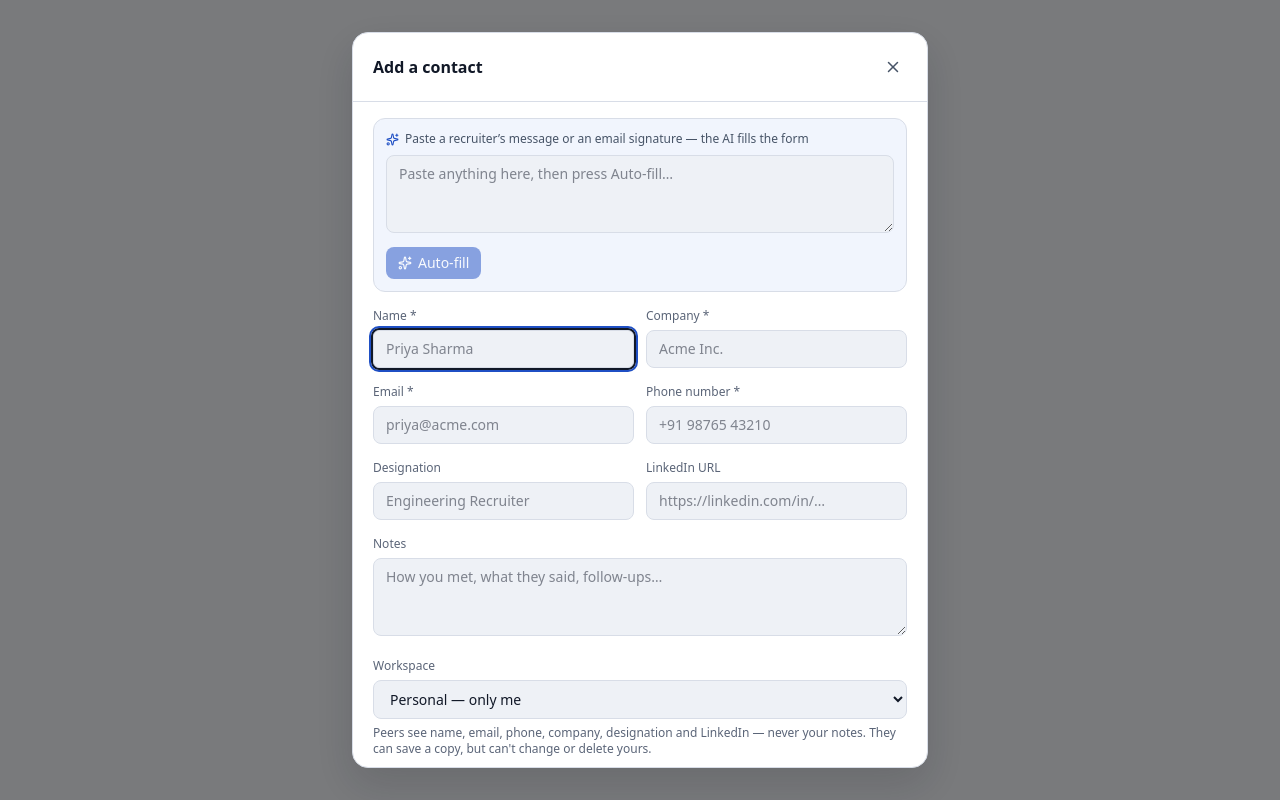
ContactModal Auto-fill › fills only what the AI found and keeps what was typed
In the field labelled "Phone number *": (776, 425) [646, 406, 907, 444], type "12345"
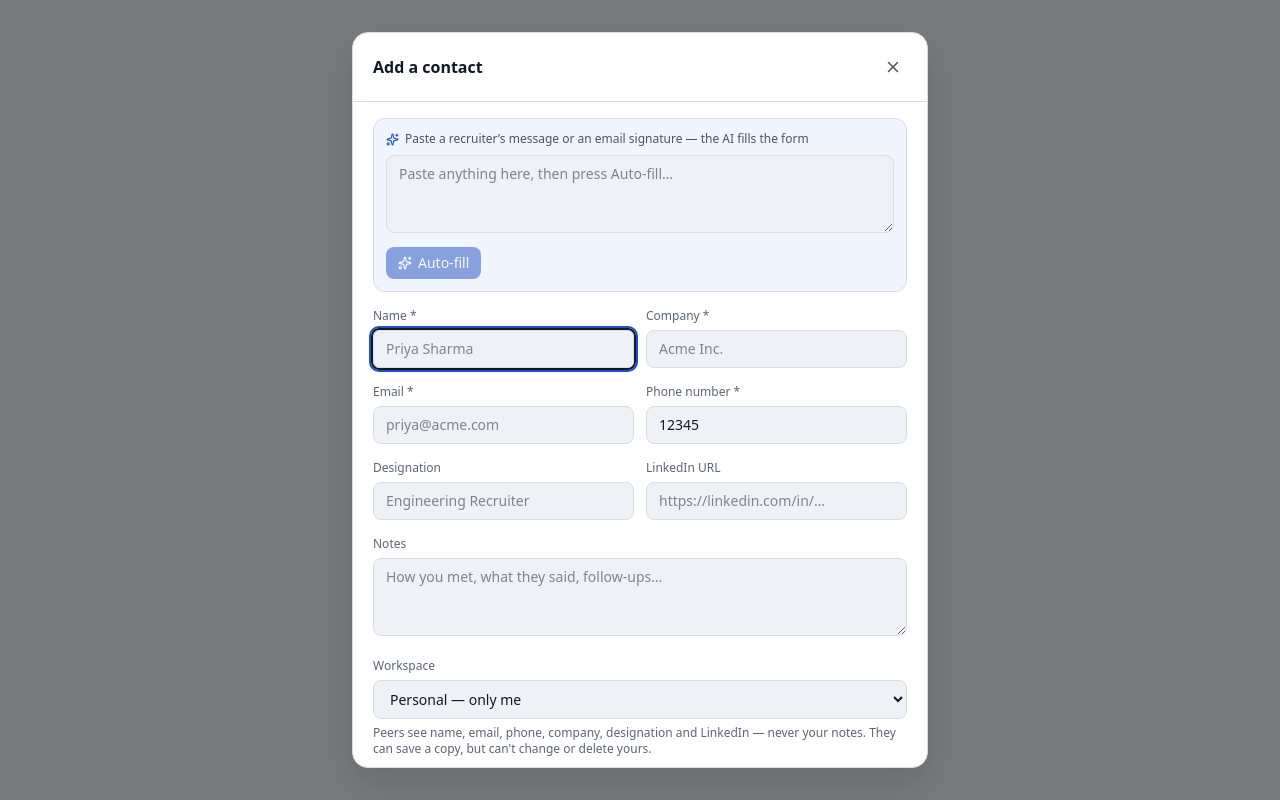
In the text box labelled "Paste a recruiter": (640, 194) [386, 155, 894, 233], type "Priya from Acme priya@acme.com"
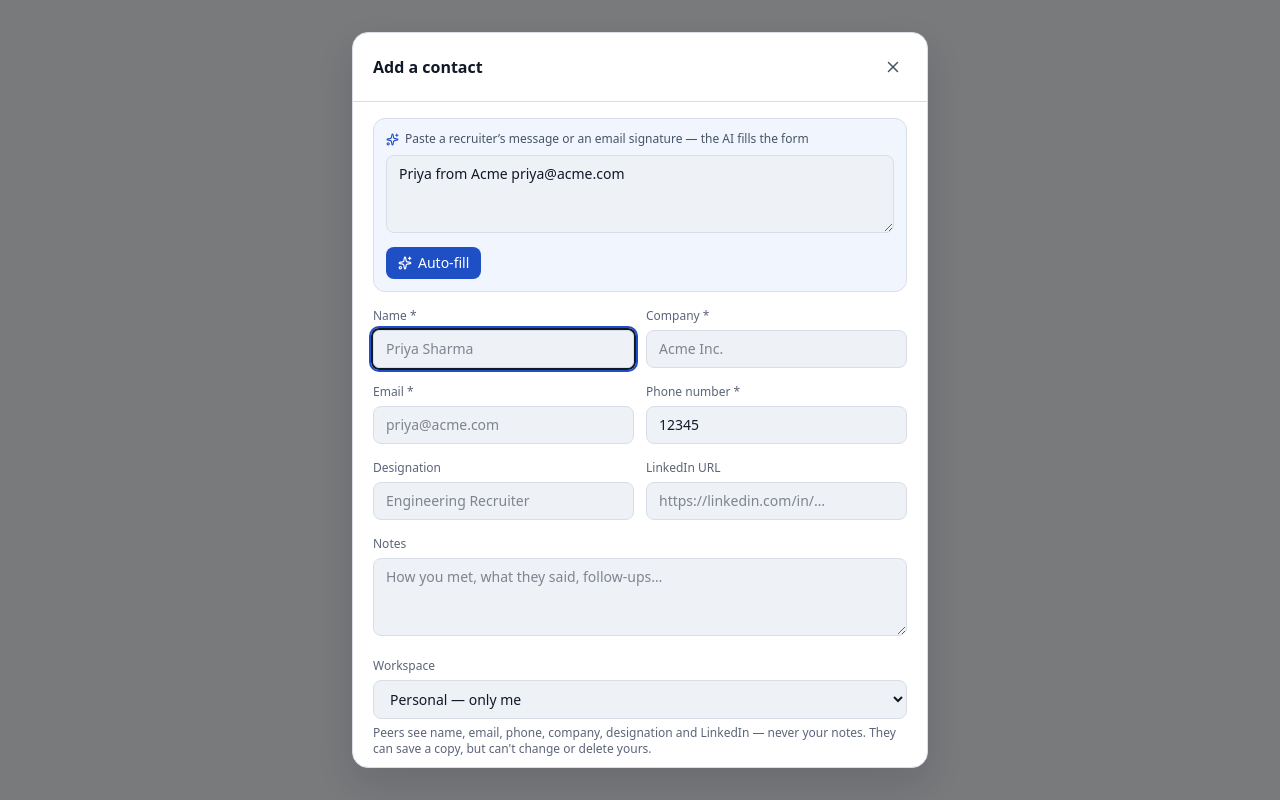
Click the button "Auto-fill": (434, 263) [386, 247, 481, 279]
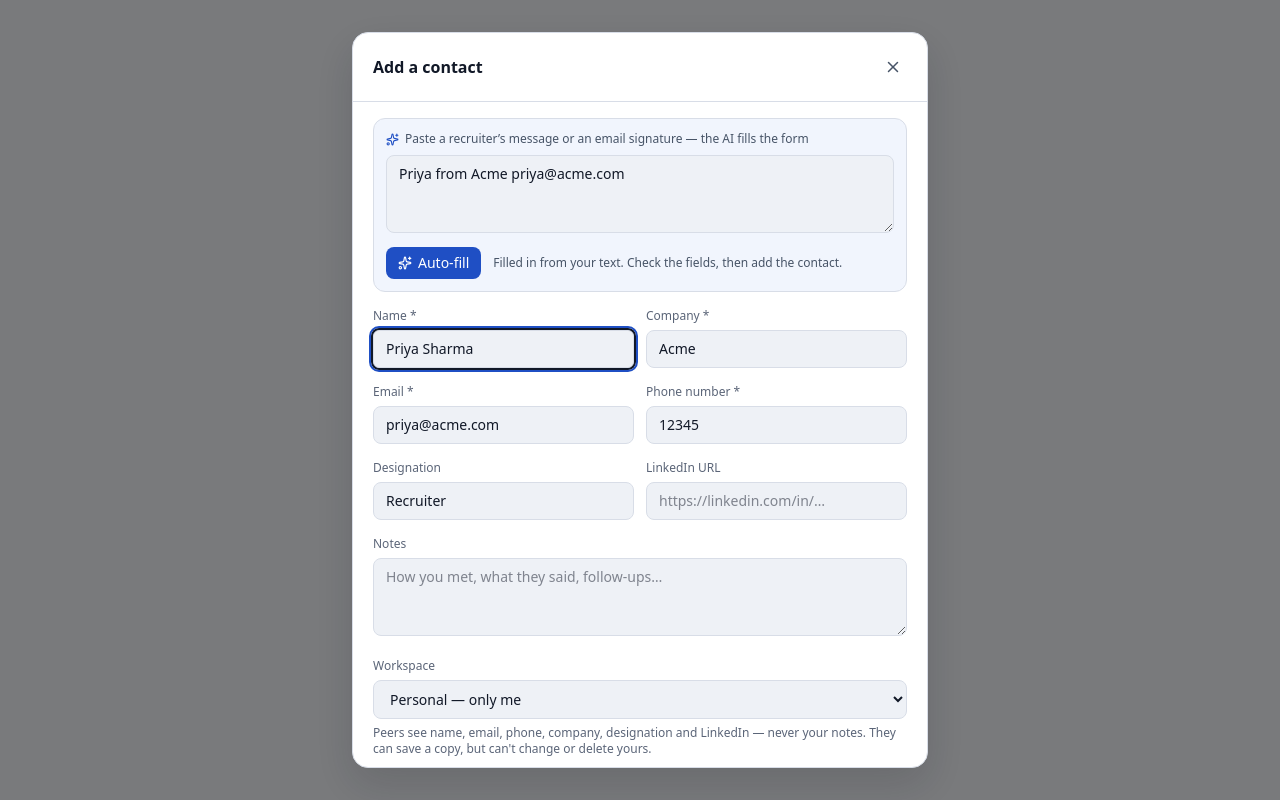
Expected: the message shows "Filled in", [493, 254, 842, 271]
Expected: the field labelled "Name *" holds "Priya Sharma", [373, 330, 634, 368]
Expected: the field labelled "Email *" holds "priya@acme.com", [373, 406, 634, 444]
